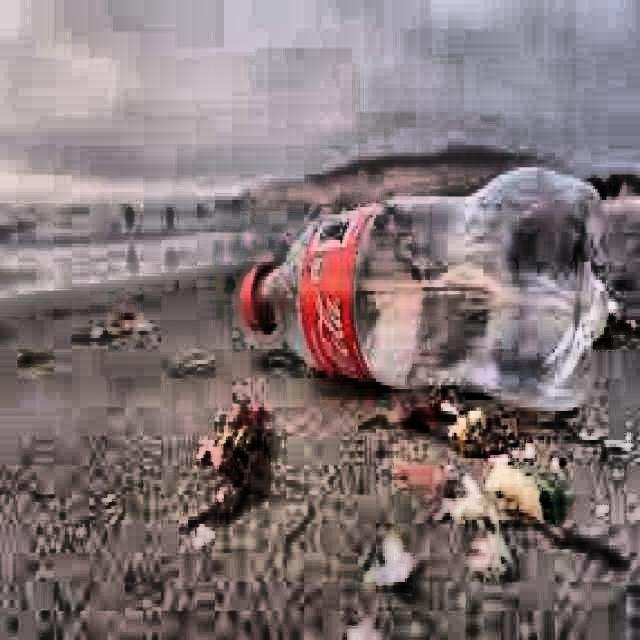plastic bottle: (241, 167, 606, 408)
